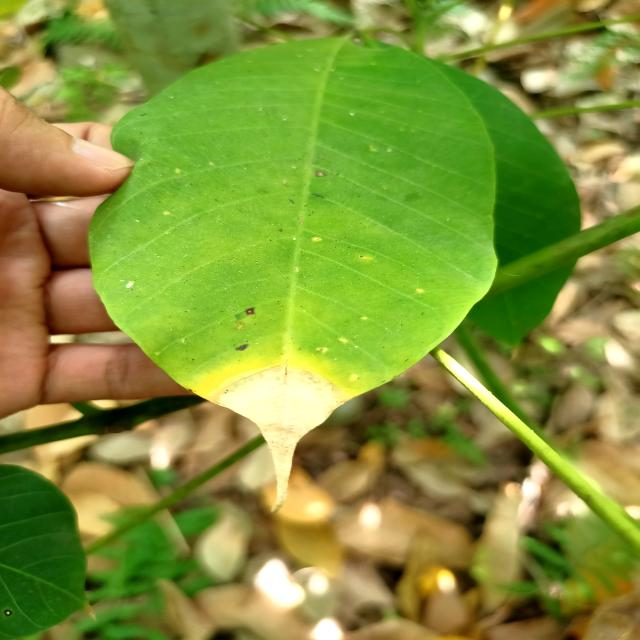Colletotrichum: (246, 308, 255, 316)
Leaf-Blight: (210, 361, 350, 513)
